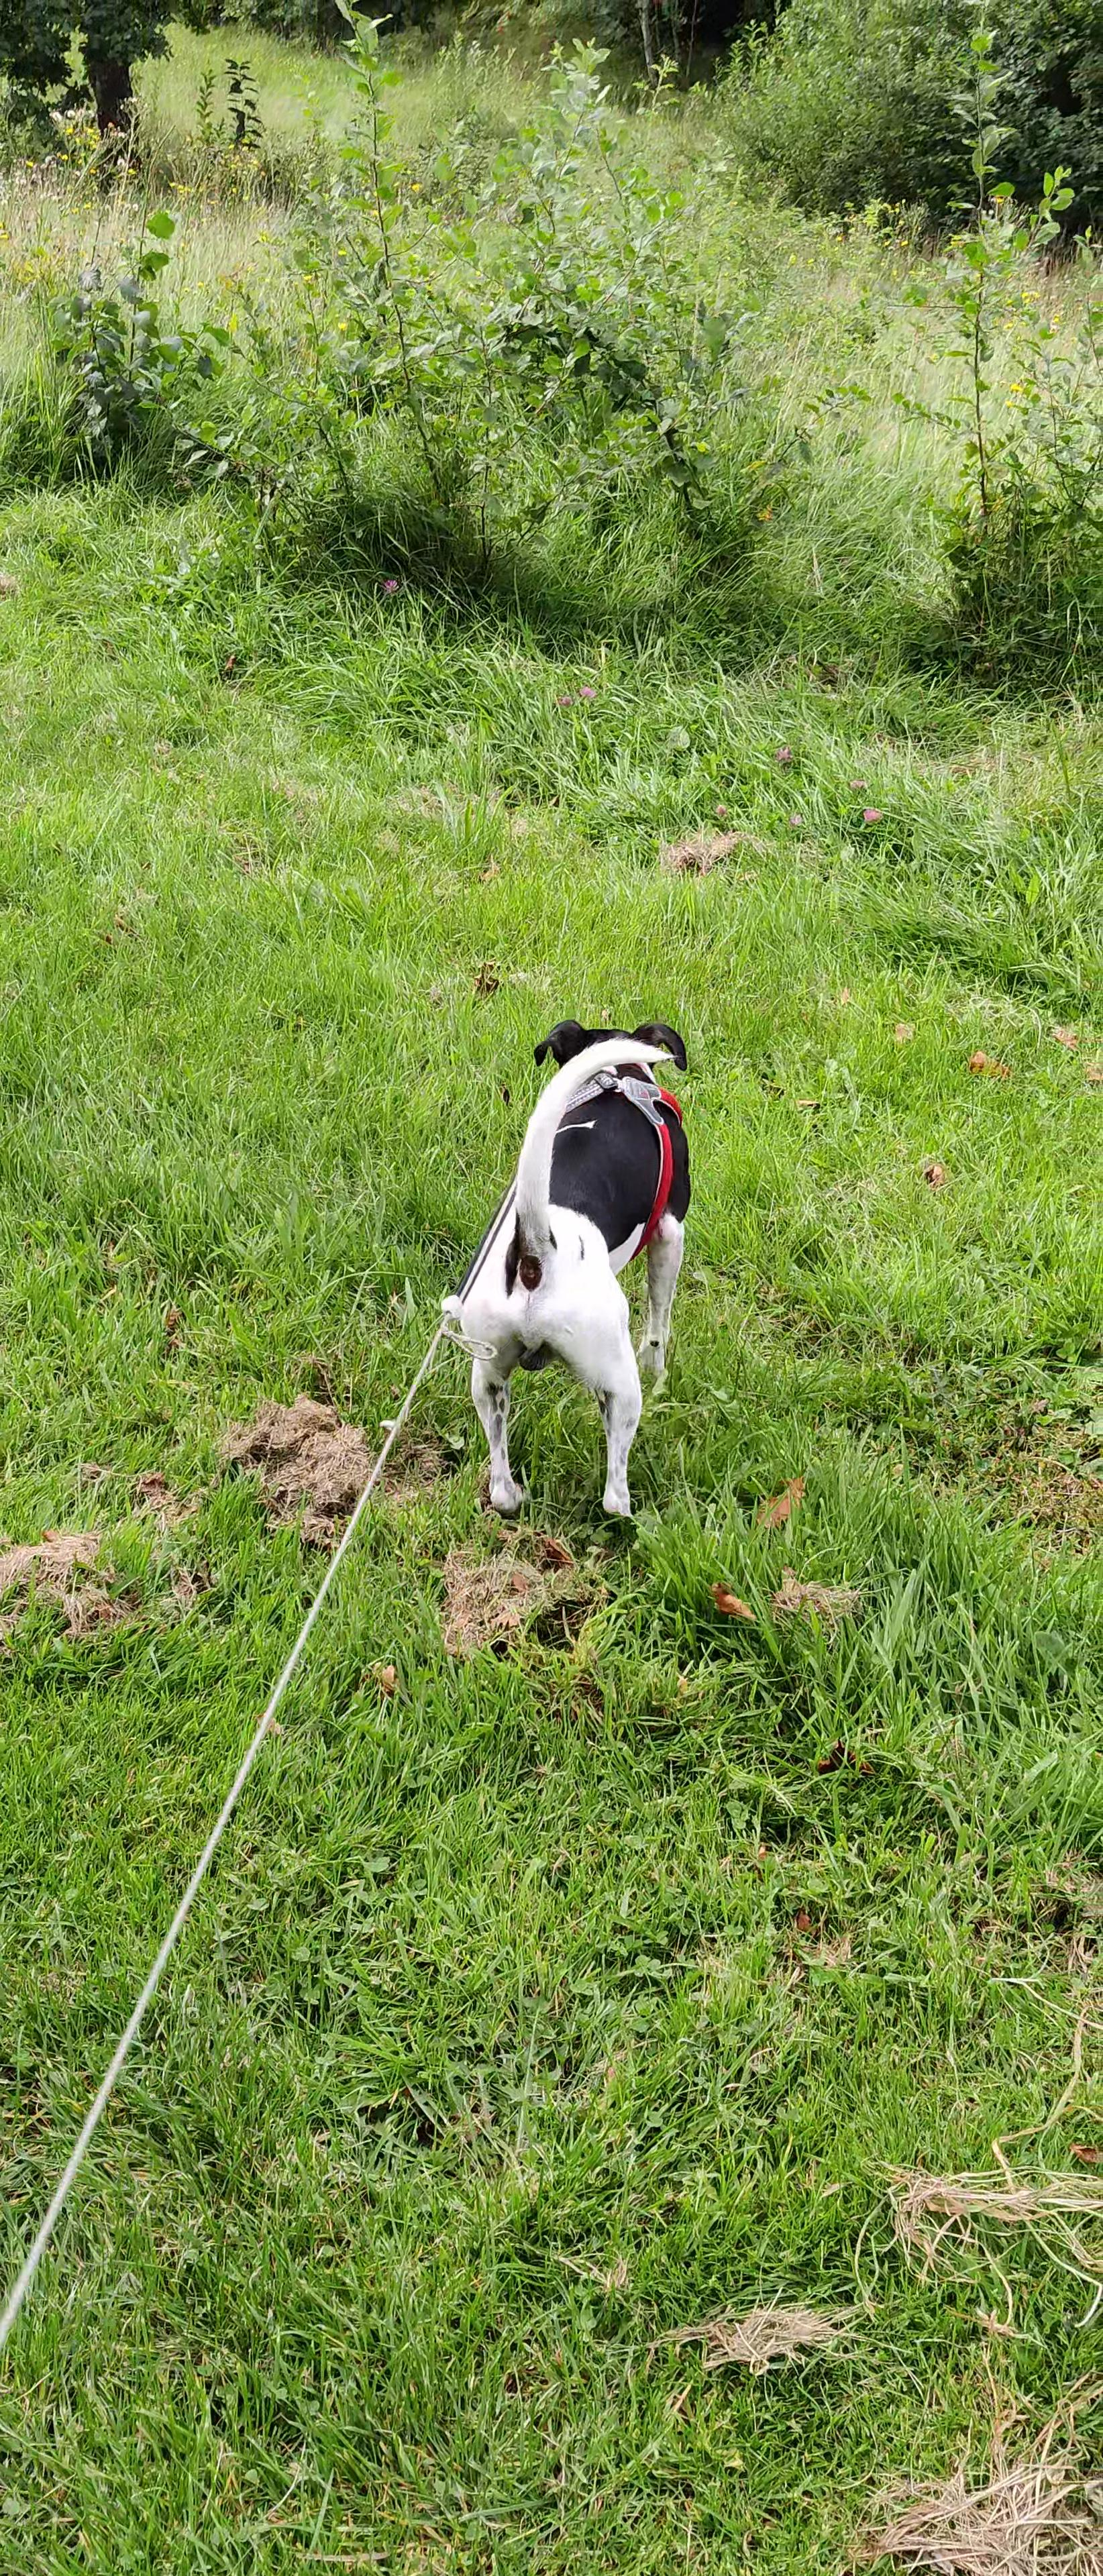Dog: (437, 1009, 717, 1548)
